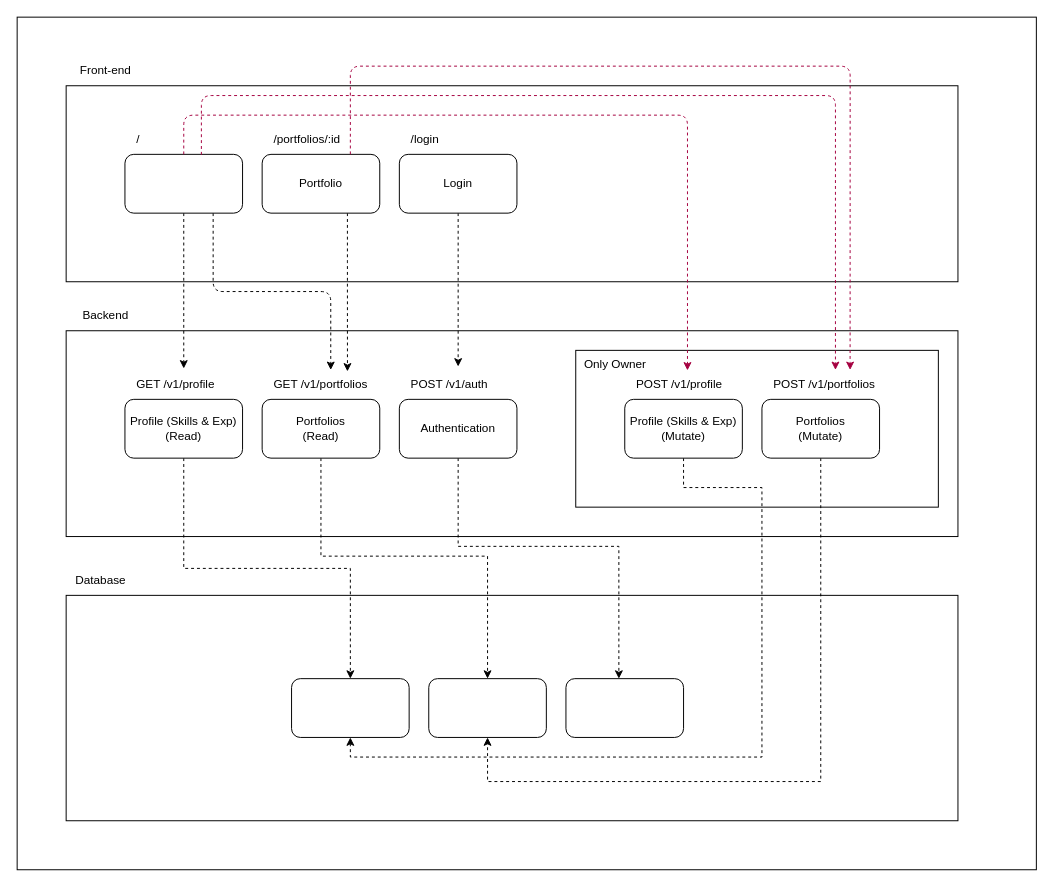
Some shapes in this 1054 by 887 pixel diagram are drawn without their labels. The shapes that lost their labels are listed below. From the top down, each one's centre as x and y in pixels, then its label:
the point at 183,183: Home
the point at 350,707: Profile
the point at 487,707: Portfolios
the point at 624,707: Users
